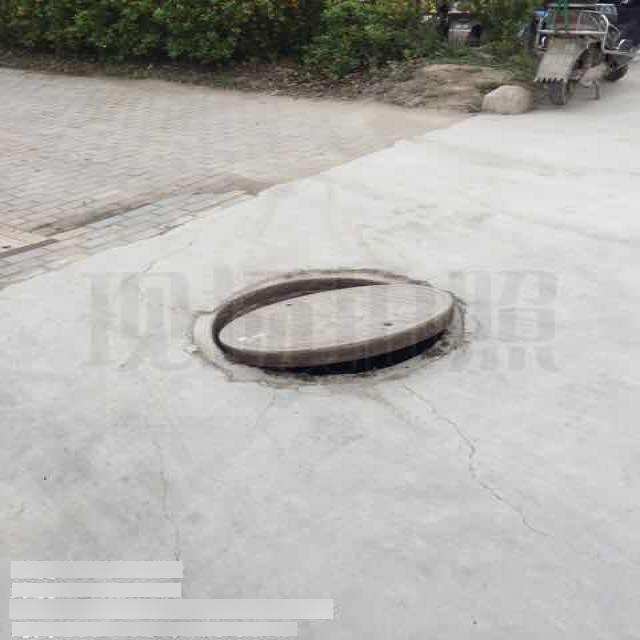Faulty: (192, 269, 469, 386)
